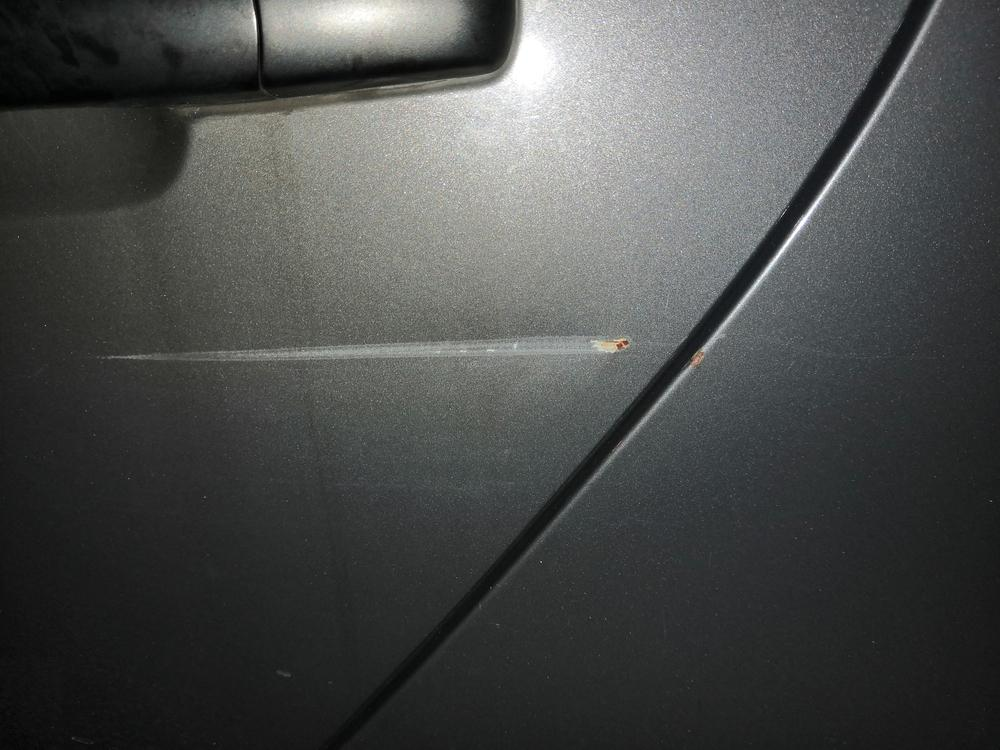scratch: (86, 334, 662, 372)
